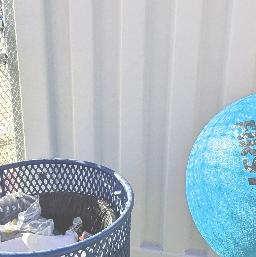algae: (193, 87, 256, 257)
